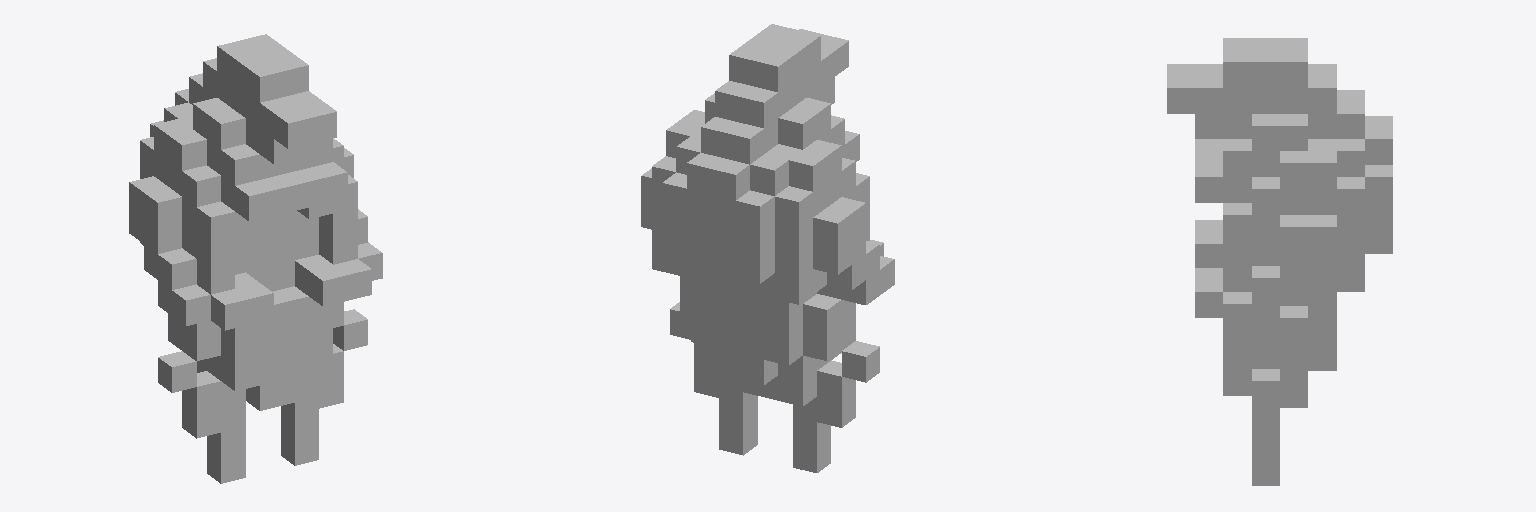
The model's file is chr_knight.obj.
The picture shows the model from 3 angles: view 1: azimuth 30°, elevation 25°; view 2: azimuth 150°, elevation 25°; view 3: azimuth 270°, elevation 25°; orthographic projection.
Size of the model in its own units: 8 by 16 by 8.